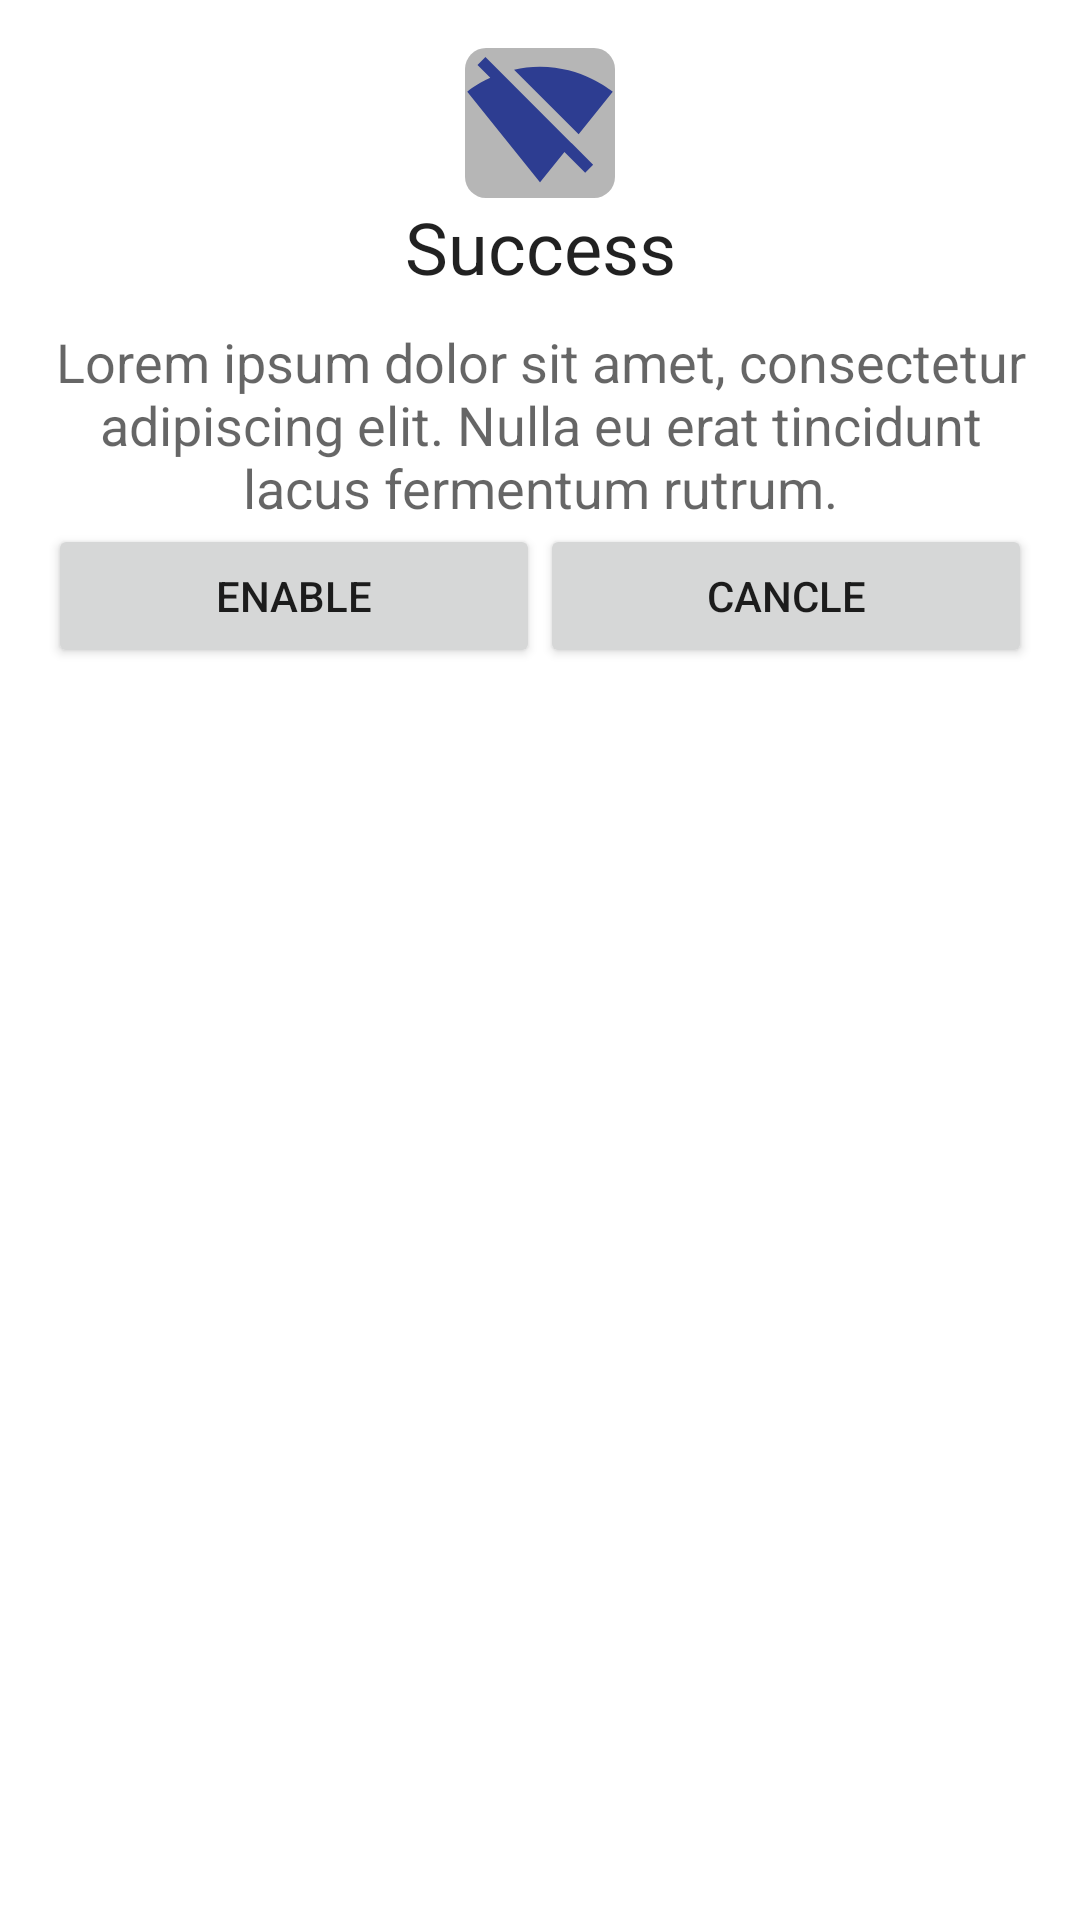

Icons on this 1080w x 1920h Android screen, each with its box as (x1, y1, x2, y2):
signal wifi off: (465, 48, 615, 198)
